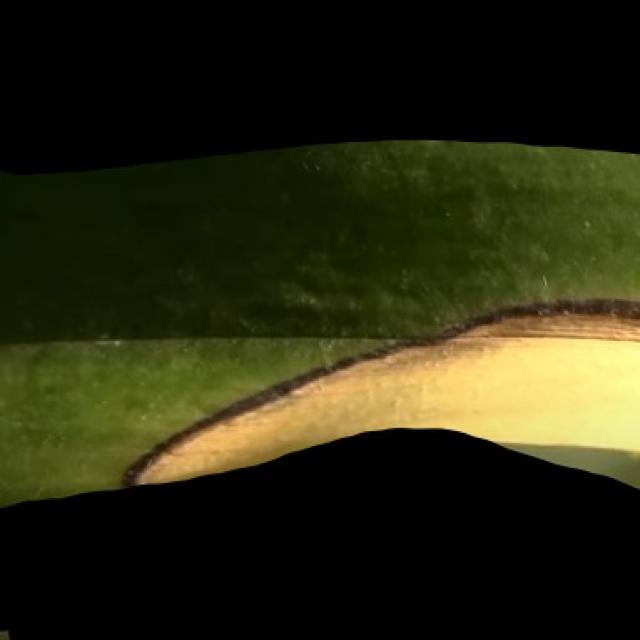mite: (119, 394, 150, 421), (297, 154, 323, 174), (434, 201, 456, 224), (580, 216, 593, 231), (439, 207, 453, 219)
sunburn: (119, 292, 638, 500)
